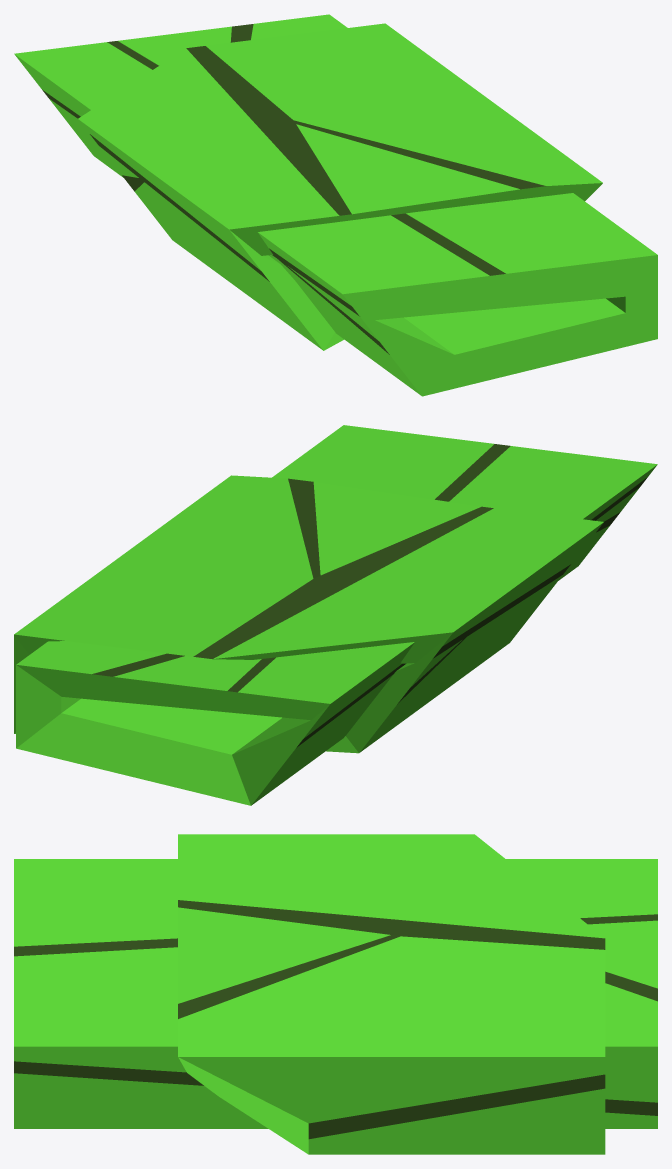
File: venda.fbx
The picture shows the model from 3 angles, top to bottom: view 1: azimuth 30°, elevation 25°; view 2: azimuth 150°, elevation 25°; view 3: azimuth 270°, elevation 25°; orthographic projection. The views are drawn at different scales.
Visible parts, largest first — view 1: Cube.001; view 2: Cube.001; view 3: Cube.001.
Boxes of the visible parts, x1,y1,x2,y2 form: Cube.001: [14, 14, 657, 396]; Cube.001: [14, 425, 657, 805]; Cube.001: [14, 834, 657, 1154].
Size of the model in its own units: 131 by 48.49 by 200.
